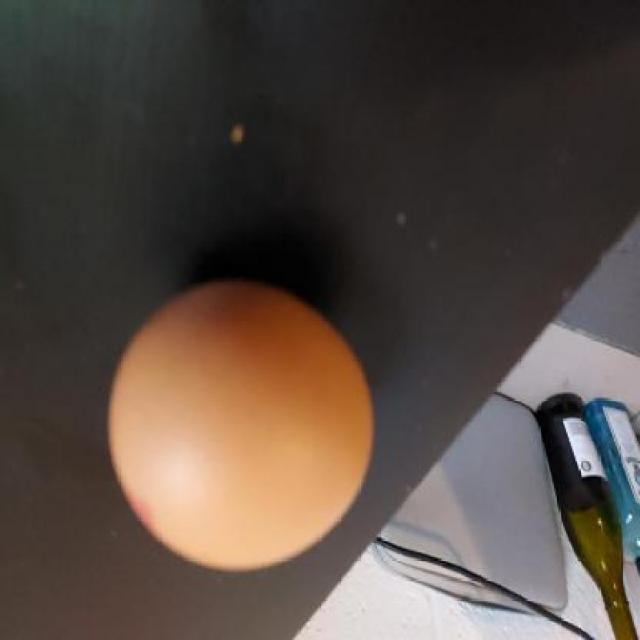biodegradable: (108, 276, 378, 576)
